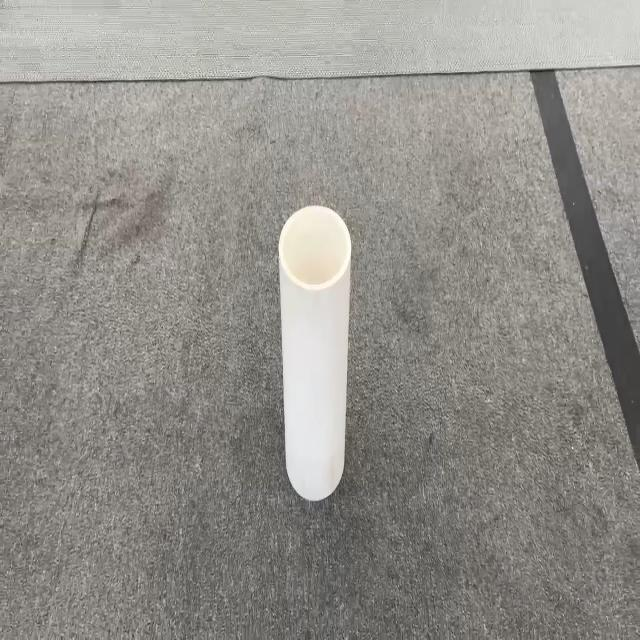coral: (277, 204, 352, 502)
